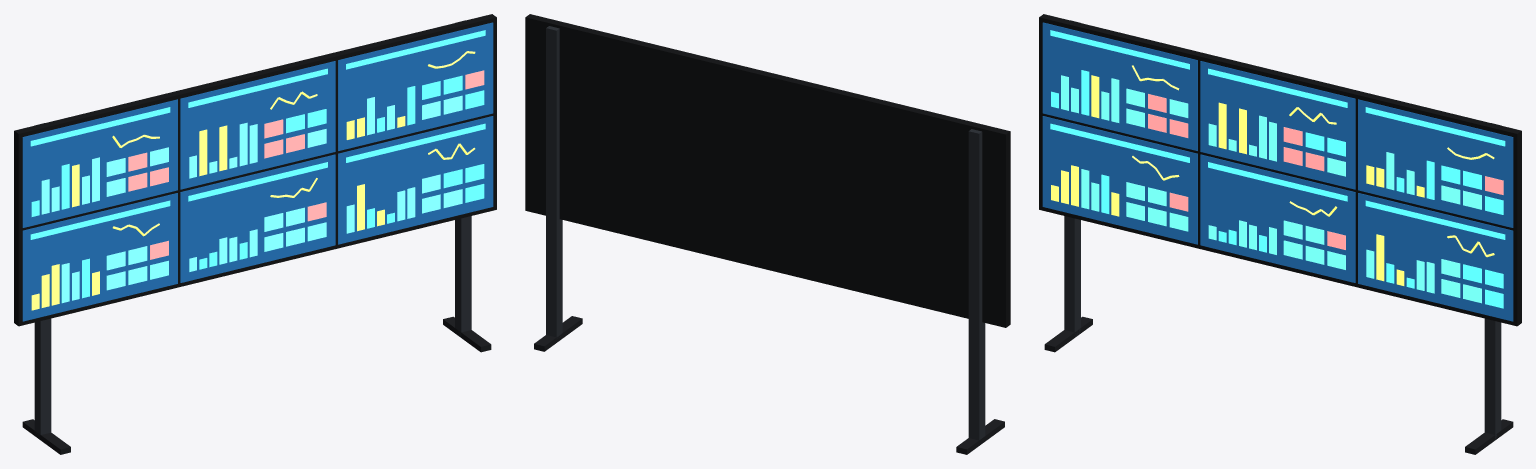
The model's file is 34_Monitoring_Video_Wall.fbx.
3 renders of one model, left to right at view 1: azimuth 30°, elevation 25°; view 2: azimuth 150°, elevation 25°; view 3: azimuth 330°, elevation 25°, orthographic.
Parts seen in each view (by area): view 1: 34_Monitoring_Video_Wall; view 2: 34_Monitoring_Video_Wall; view 3: 34_Monitoring_Video_Wall.
Part boxes in pixels (left/top/right/bottom): 34_Monitoring_Video_Wall: left=14, top=14, right=496, bottom=454; 34_Monitoring_Video_Wall: left=525, top=14, right=1010, bottom=454; 34_Monitoring_Video_Wall: left=1039, top=14, right=1521, bottom=454.
Bounding box in the file's own units: 3.64 × 2.28 × 0.5.
